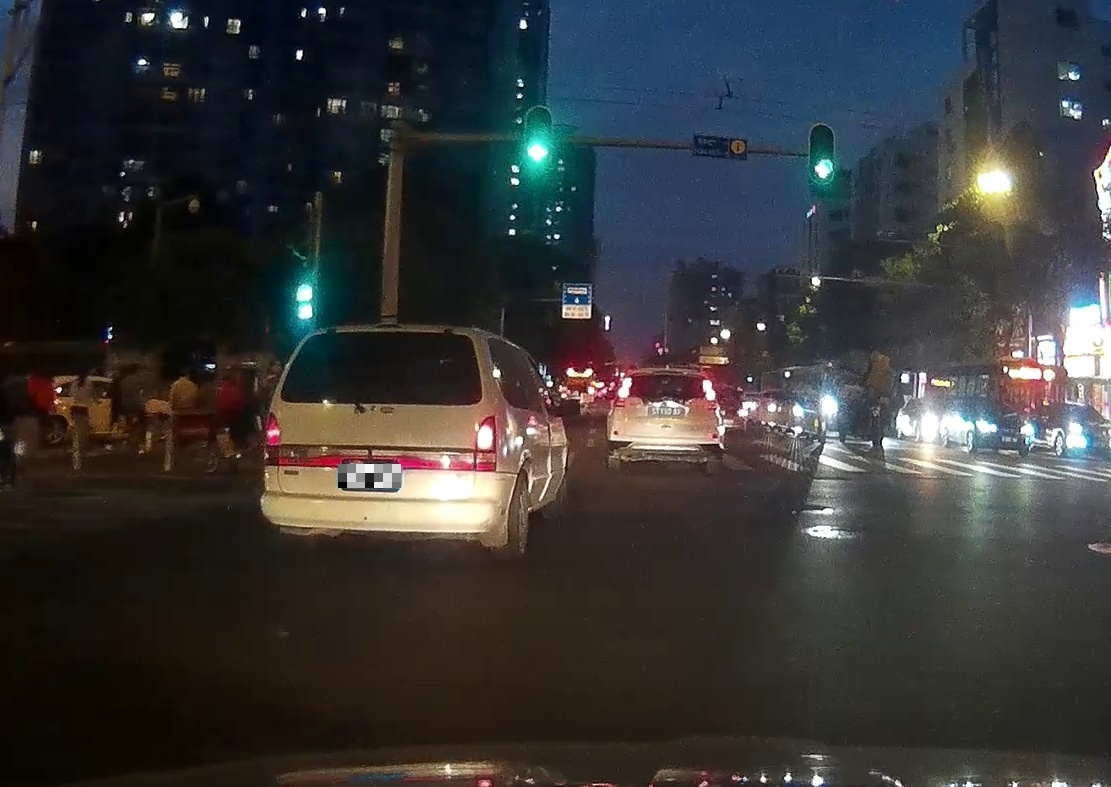L_light: (264, 413, 280, 445), (616, 377, 632, 399)
R_light: (475, 416, 495, 451), (702, 379, 716, 401)
T_light: (365, 332, 397, 339), (657, 374, 674, 379)
night-no: (259, 324, 498, 562), (606, 368, 722, 474)
plate_1: (338, 464, 401, 488)
